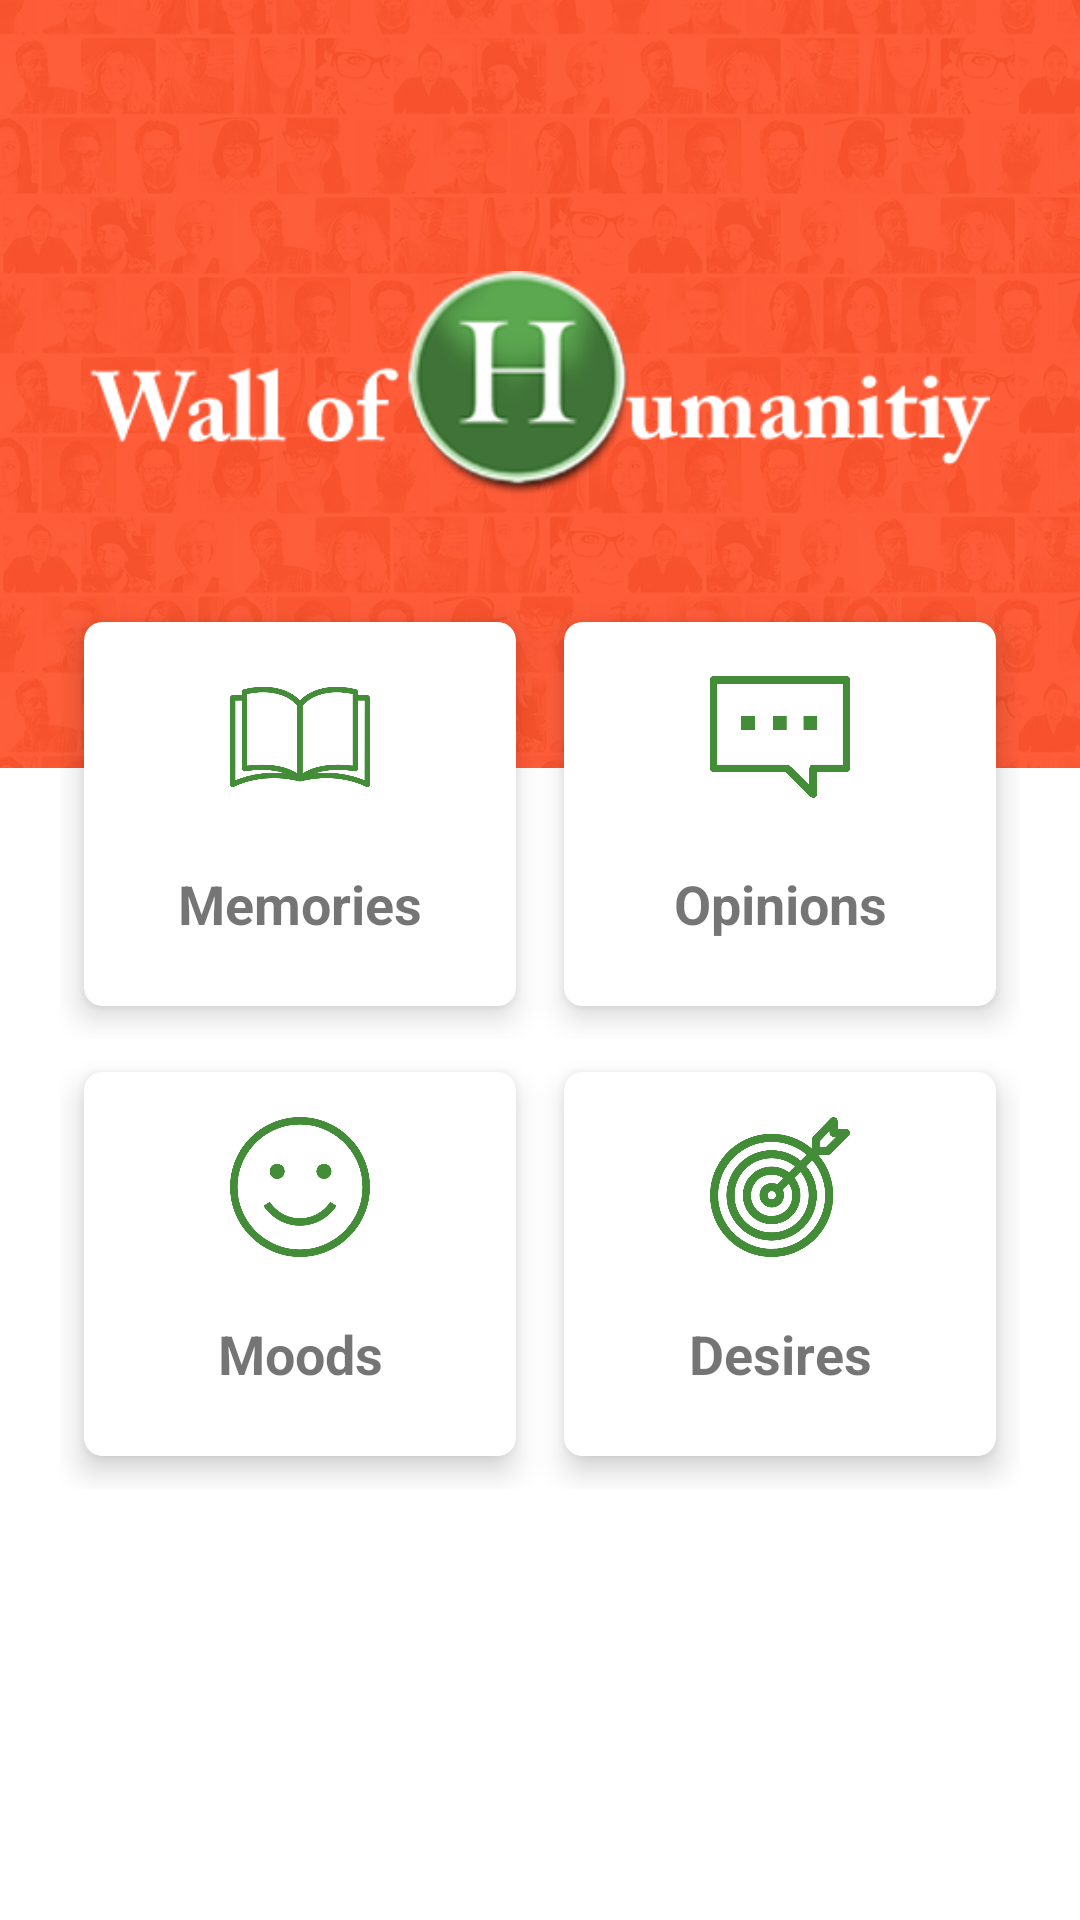

Icons on this 1080px x 1920px Android screen, each with its box as region(x1, y1, x2, y2):
book: region(230, 687, 370, 787)
goal: region(710, 1117, 850, 1257)
happiness: region(230, 1117, 370, 1257)
